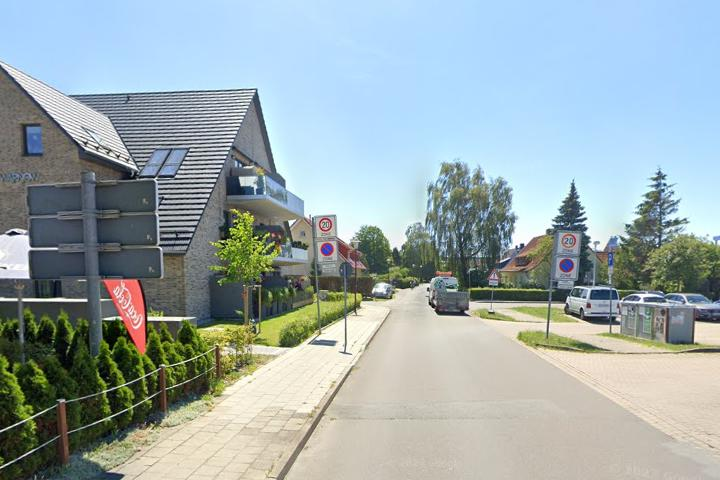traffic_sign: (561, 232, 577, 248), (559, 258, 574, 273), (319, 216, 332, 232), (320, 242, 334, 256), (488, 270, 500, 280)
vehicle: (562, 284, 624, 325), (657, 289, 720, 322)
